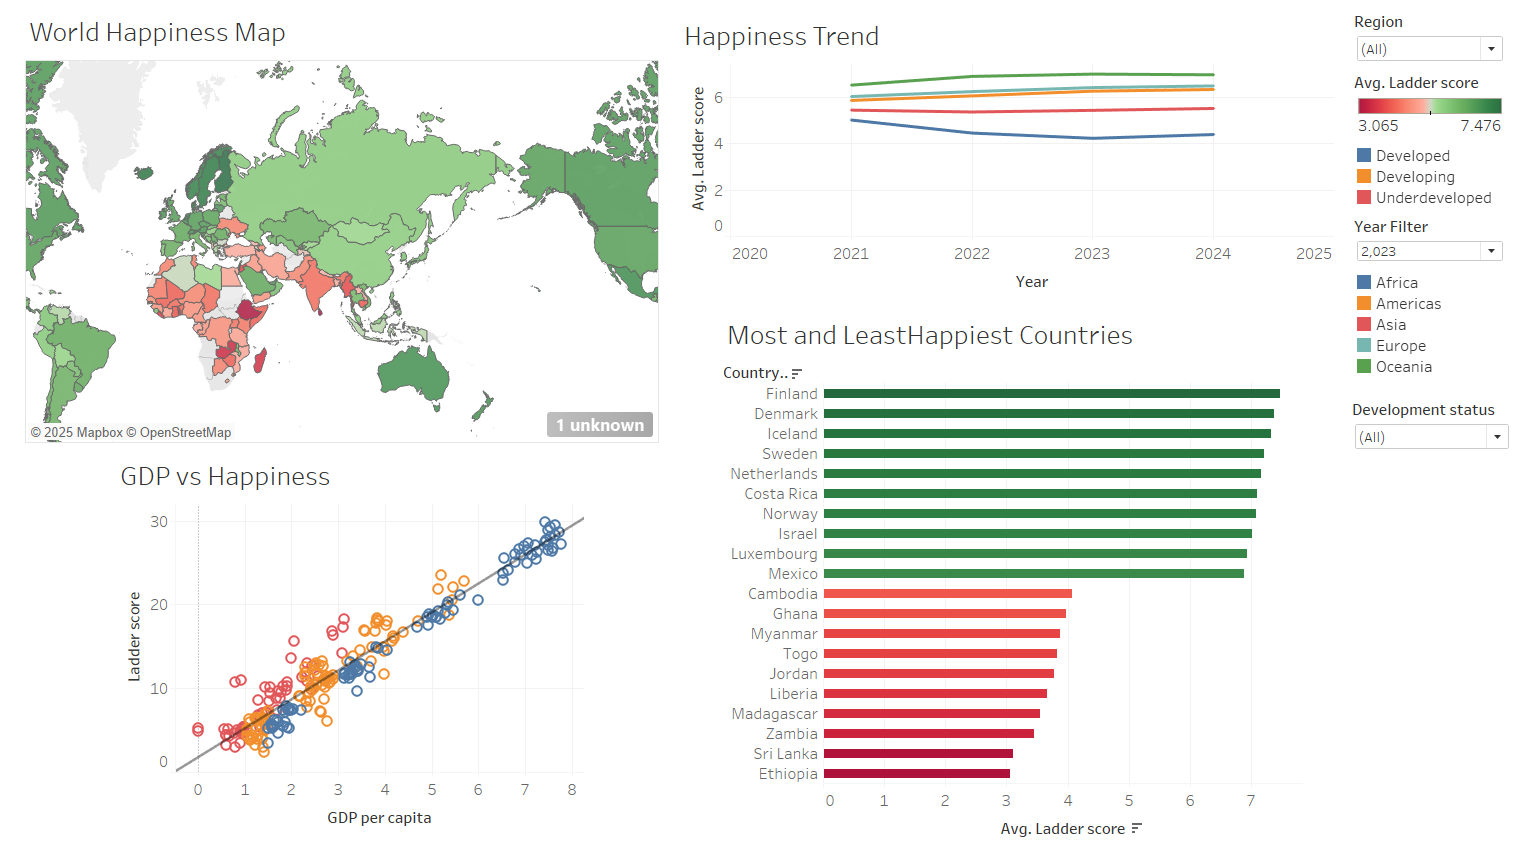

What the dashboard file says about the page in this screenshot:
{"tool":"tableau","page":{"name":"World Happiness : 2021–2024","canvas":[1520,860],"ordinal":0},"visuals":[{"type":"filter","title":"World Happiness Map","param":"[federated.0dzz6n21x14u4b1c6h1bc1to2xbq].[none:Region:nk]","box":[1352,8,160,61]},{"type":"worksheet","title":"World Happiness Map","mark":"Automatic","box":[27.2,11,634.3,433]},{"type":"worksheet","title":"Happiness Trend","mark":"Automatic","rows":["Ladder score"],"cols":["Year"],"box":[682,15,654,285]},{"type":"legend","title":"World Happiness Map","param":"[federated.0dzz6n21x14u4b1c6h1bc1to2xbq].[avg:Ladder score:qk]","box":[1352,69,160,73]},{"type":"legend","title":"GDP vs Happiness ","param":"[federated.0dzz6n21x14u4b1c6h1bc1to2xbq].[none:Development status:nk]","box":[1352,142,160,71]},{"type":"parameter","param":"[Parameters].[Parameter 1]","box":[1352,213,160,56]},{"type":"legend","title":"Happiness Trend","param":"[federated.0dzz6n21x14u4b1c6h1bc1to2xbq].[none:Region:nk]","box":[1352,269,160,113]},{"type":"worksheet","title":"Most and LeastHappiest Countries","mark":"Automatic","rows":["Country name"],"cols":["Ladder score"],"box":[725,314,580,542]},{"type":"filter","title":"Most and LeastHappiest Countries","param":"[federated.0dzz6n21x14u4b1c6h1bc1to2xbq].[none:Development status:nk]","box":[1354,400,160,120]},{"type":"worksheet","title":"GDP vs Happiness ","mark":"Automatic","rows":["Ladder score"],"cols":["GDP per capita"],"box":[118,455.2,468,380.5]}]}

Visuals, with their boxes in screenshot pixels (x1, y1, x2, y2), scaled from the page's 1520x860 canvas onto the 1516x859 screenshot:
"World Happiness Map" filter: rect(1348, 8, 1508, 69)
"World Happiness Map" worksheet: rect(27, 11, 660, 443)
"Happiness Trend" worksheet: rect(680, 15, 1332, 300)
"World Happiness Map" legend: rect(1348, 69, 1508, 142)
"GDP vs Happiness " legend: rect(1348, 142, 1508, 213)
parameter: rect(1348, 213, 1508, 269)
"Happiness Trend" legend: rect(1348, 269, 1508, 382)
"Most and LeastHappiest Countries" worksheet: rect(723, 314, 1302, 855)
"Most and LeastHappiest Countries" filter: rect(1350, 400, 1510, 519)
"GDP vs Happiness " worksheet: rect(118, 455, 584, 835)
